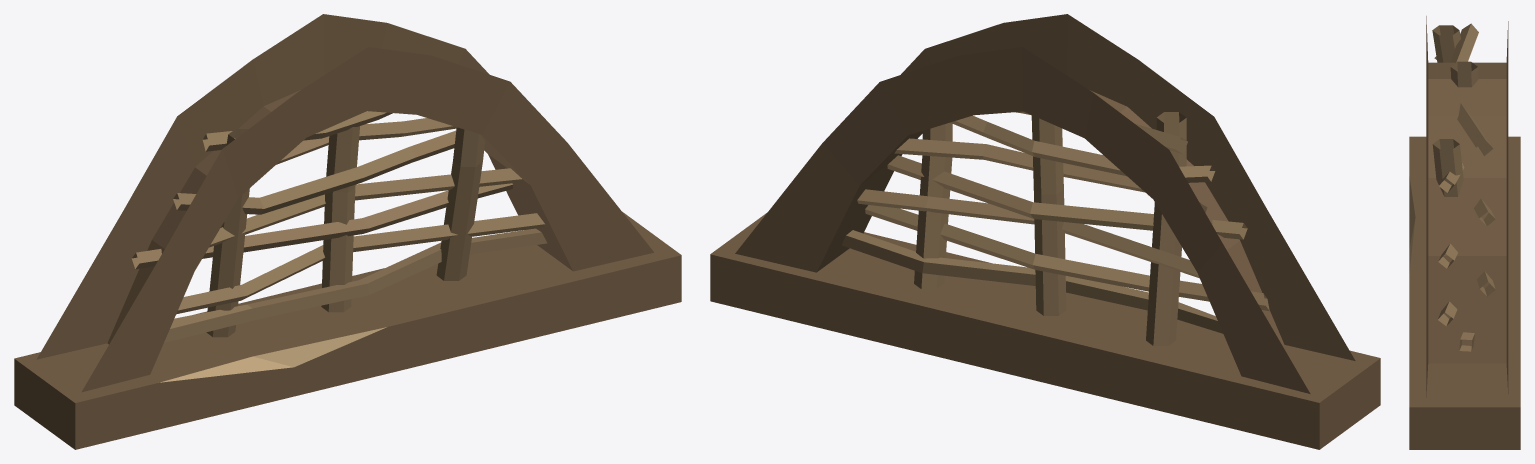
Rendered from rpgpp_ag_roof_02_end_04_window_01b.fbx.
3 views of the same model, side by side, from view 1: azimuth 30°, elevation 25°; view 2: azimuth 150°, elevation 25°; view 3: azimuth 270°, elevation 25° (orthographic). The views are drawn at different scales.
Visible parts, largest first — view 1: rpgpp_ag_roof_02_end_04_window_01b; view 2: rpgpp_ag_roof_02_end_04_window_01b; view 3: rpgpp_ag_roof_02_end_04_window_01b.
Part boxes in pixels (x1=…): rpgpp_ag_roof_02_end_04_window_01b: x1=14, y1=14, x2=681, y2=449; rpgpp_ag_roof_02_end_04_window_01b: x1=710, y1=14, x2=1380, y2=449; rpgpp_ag_roof_02_end_04_window_01b: x1=1409, y1=16, x2=1520, y2=449.
Bounding box in the file's own units: 3.32 × 1.69 × 0.5785.
